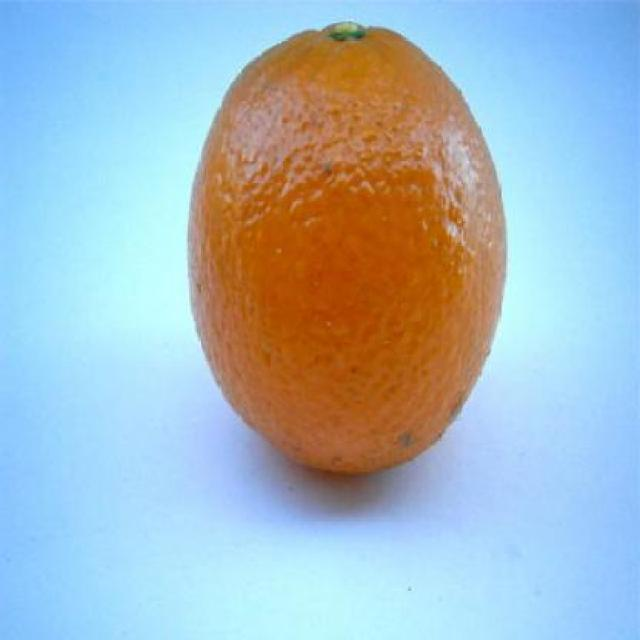Orange: (185, 18, 508, 477)
